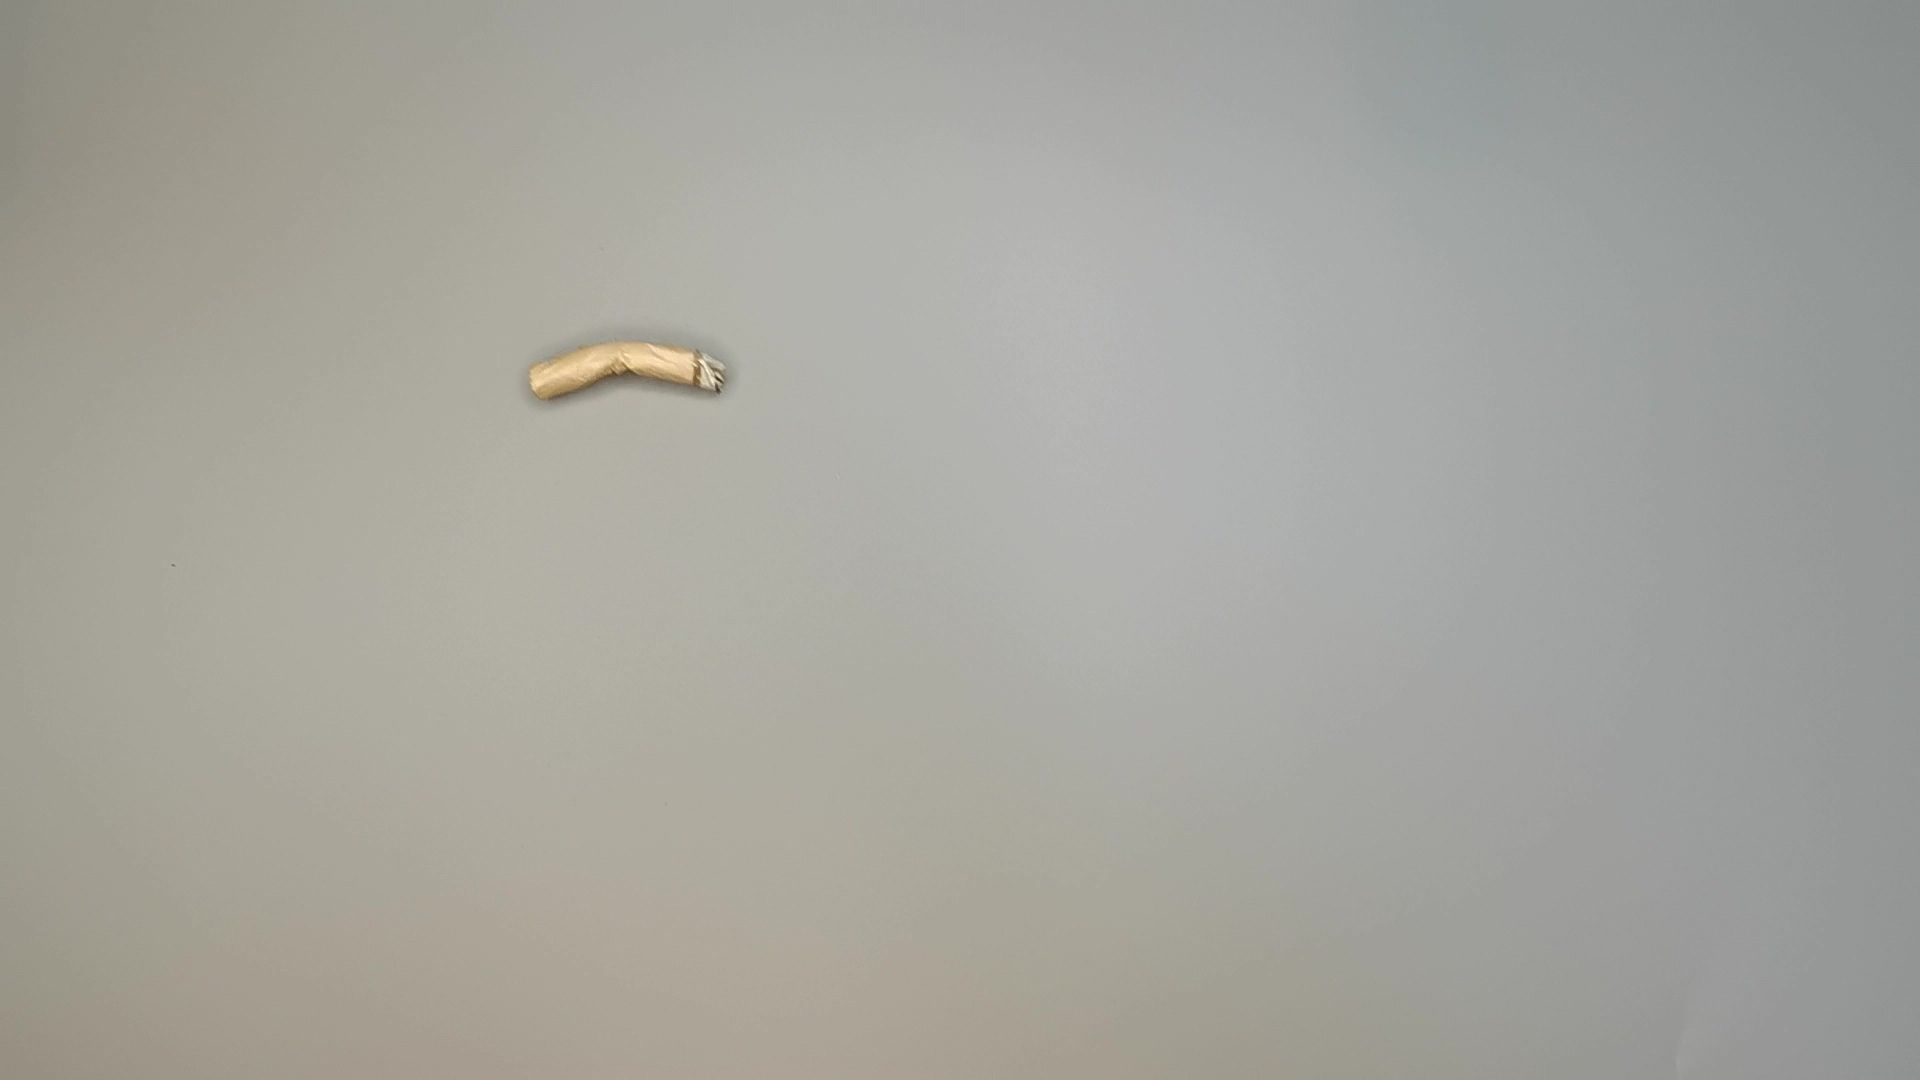cigarette: (524, 338, 737, 422)
